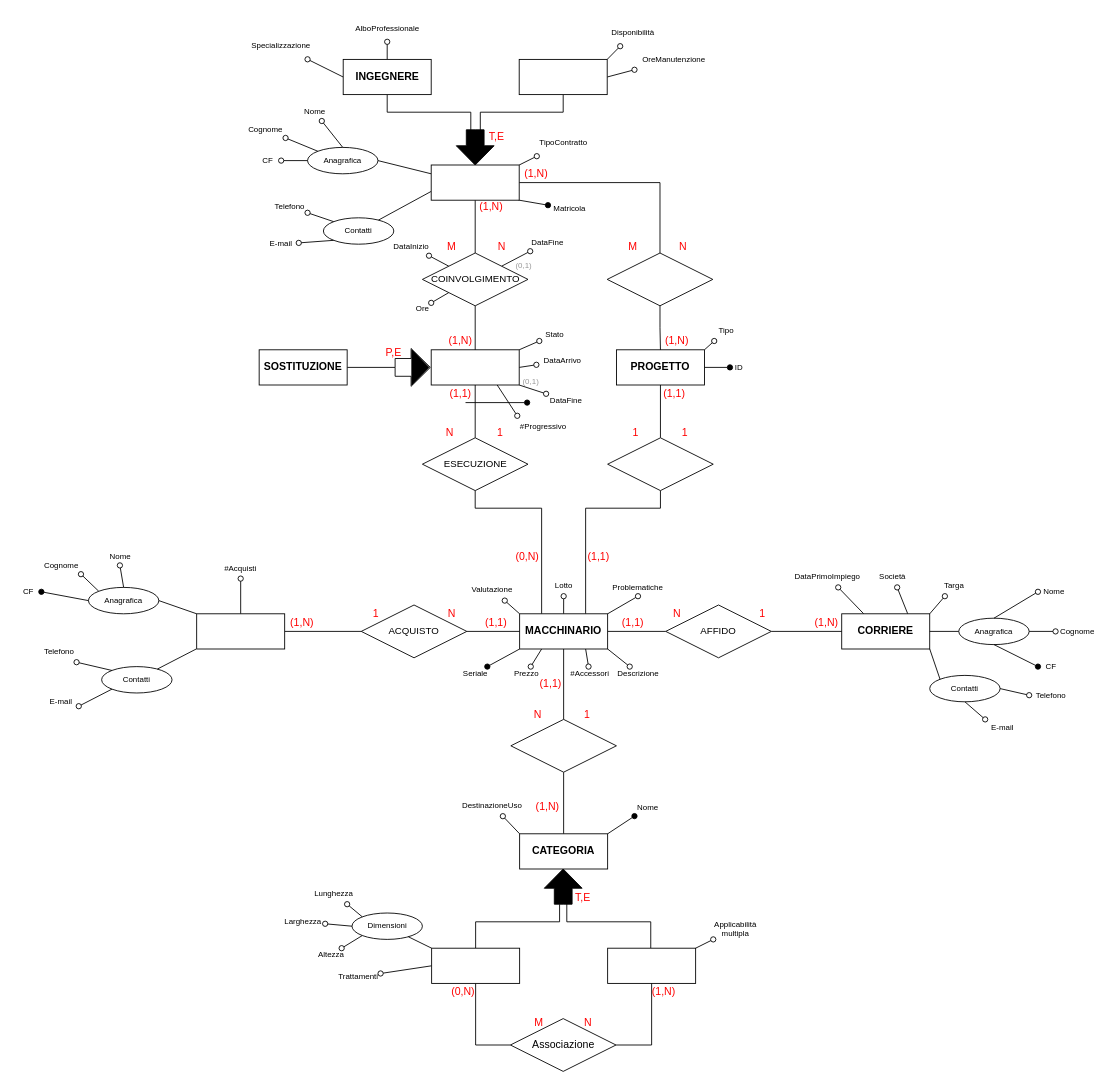
Some shapes in this 1115 by 1087 pixel diagram are drawn without their labels. Each missing label, with the centre of its shape:
ACCESSORIA: the point at 651,965
APPARTENENZA: the point at 563,745
BASE: the point at 475,965
CLIENTE: the point at 240,631
DIPENDENTE: the point at 474,182
INTERVENTO: the point at 474,367
OPERAIO: the point at 562,77
PARTECIPAZIONE: the point at 659,279
REALIZZAZIONE: the point at 660,464
